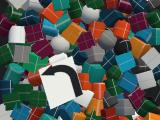Left: (38, 56, 84, 110)
